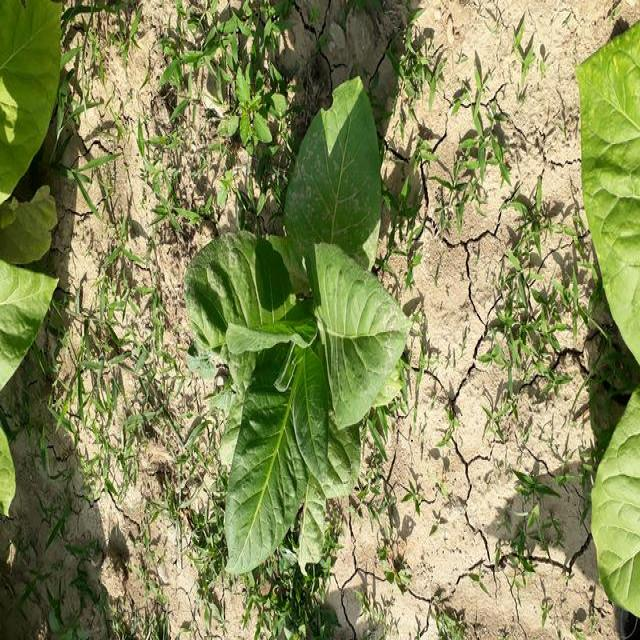crop: (193, 84, 404, 579), (570, 45, 640, 610), (1, 4, 60, 418), (1, 436, 16, 544)
